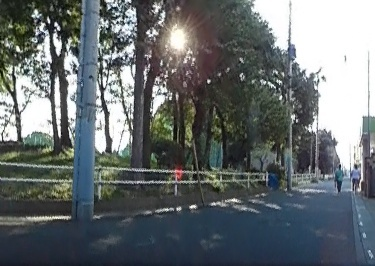person: (332, 162, 344, 191), (350, 163, 360, 192)
